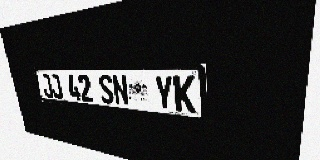2: (77, 74, 93, 102)
4: (66, 74, 81, 101)
J: (49, 74, 63, 99), (40, 74, 54, 98)
K: (173, 75, 196, 113)
N: (111, 75, 130, 106)
S: (98, 75, 115, 104)
Y: (153, 75, 174, 111)
